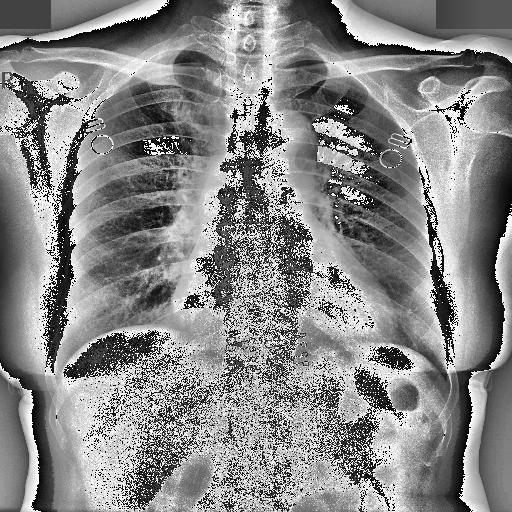0- Aortic enlargement: (254, 109, 320, 174), (260, 111, 318, 183), (262, 108, 320, 176)
11- Pleural thickening: (147, 50, 211, 64)
3- Cardiomegaly: (174, 277, 396, 358), (170, 266, 398, 344), (170, 276, 401, 350)
